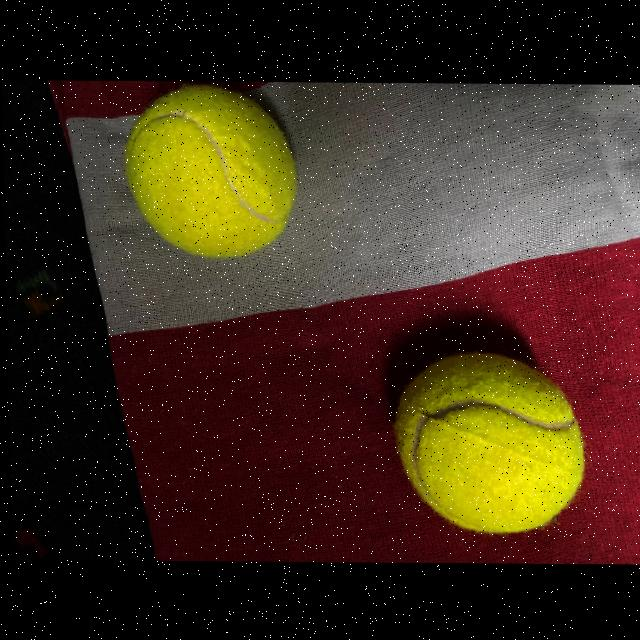Tennisball: (394, 351, 584, 534), (126, 86, 296, 257)
